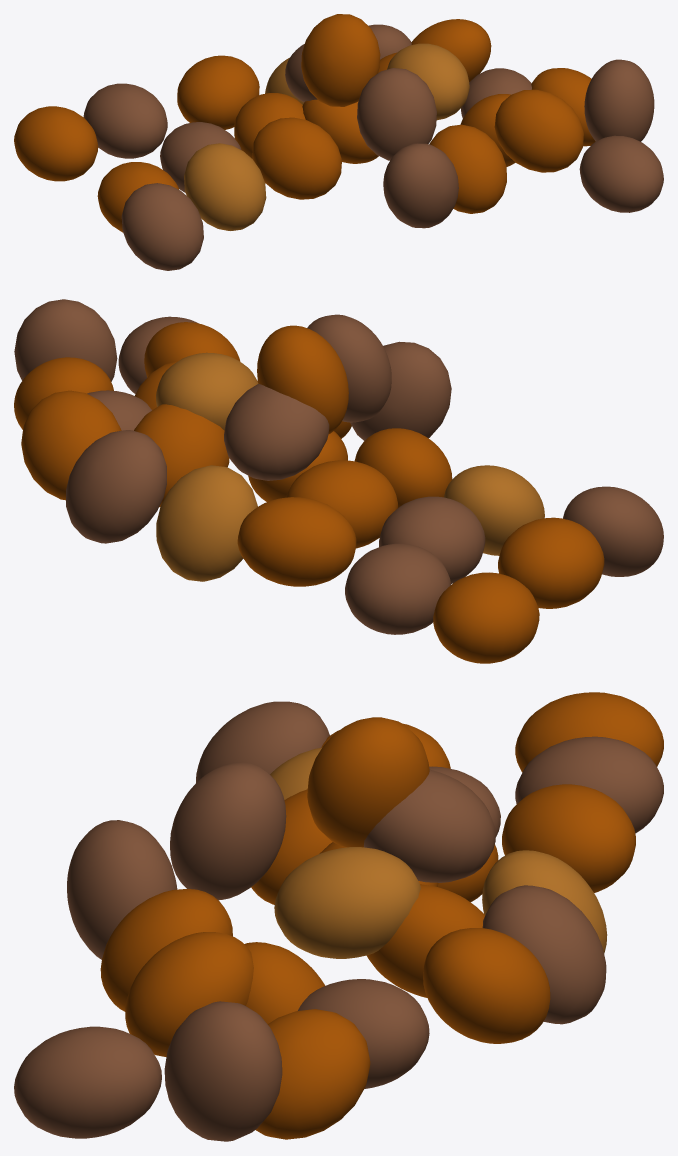
File: Kacang.fbx
3 renders of one model, top to bottom at view 1: azimuth 30°, elevation 25°; view 2: azimuth 150°, elevation 25°; view 3: azimuth 270°, elevation 25°, orthographic. The views are drawn at different scales.
Parts seen in each view (by area): view 1: Kacang; view 2: Kacang; view 3: Kacang.
Boxes of the visible parts, x1,y1,x2,y2 form: Kacang: (14, 14, 663, 270); Kacang: (14, 299, 663, 663); Kacang: (14, 692, 663, 1141).
Bounding box in the file's own units: 20.13 × 6.3 × 13.93.
